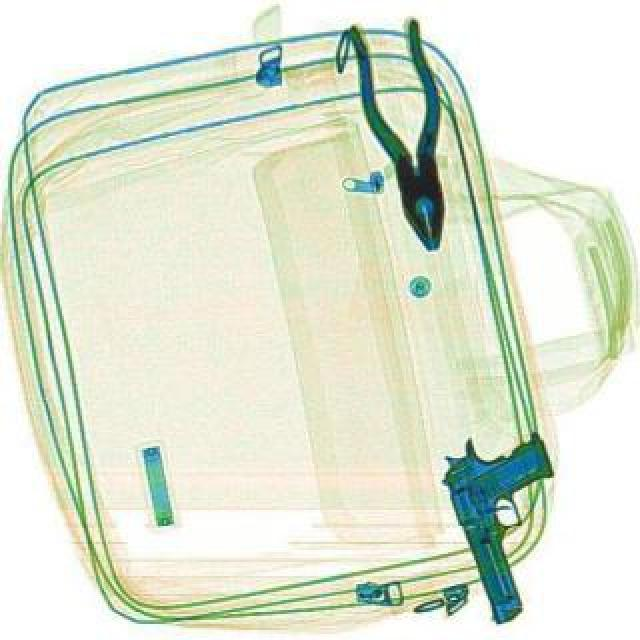gun: (432, 418, 596, 626)
wrench: (342, 10, 472, 258)
